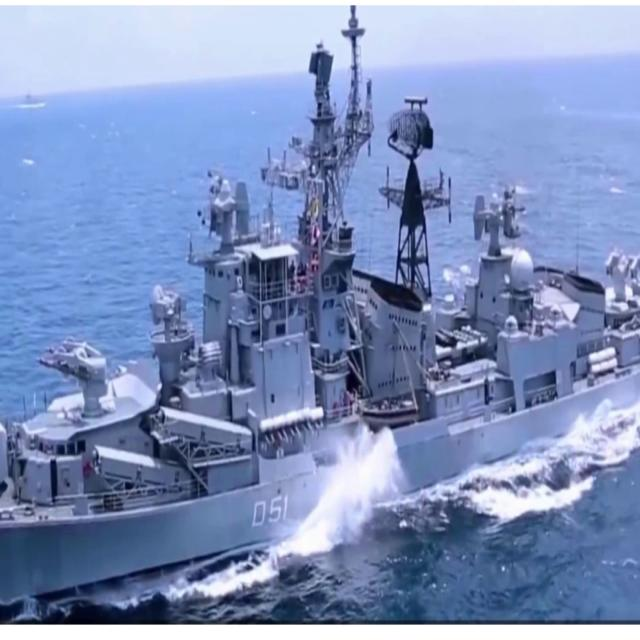OCR: (248, 486, 298, 537)
